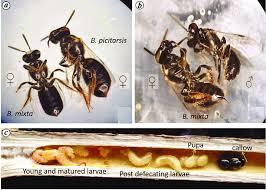Braunsapis: (147, 25, 229, 115), (45, 8, 120, 104), (11, 34, 70, 120), (179, 12, 245, 84)
